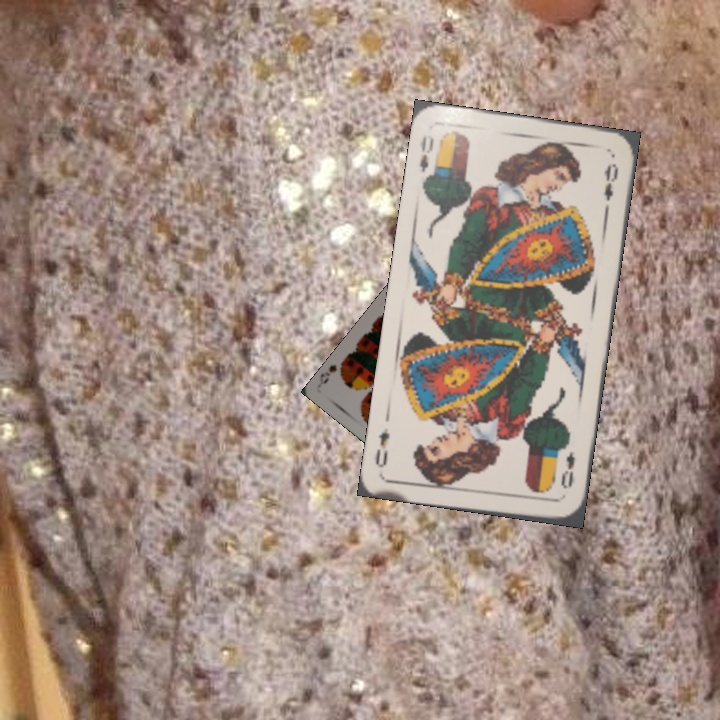EO: (556, 447, 578, 491), (415, 133, 436, 175)
